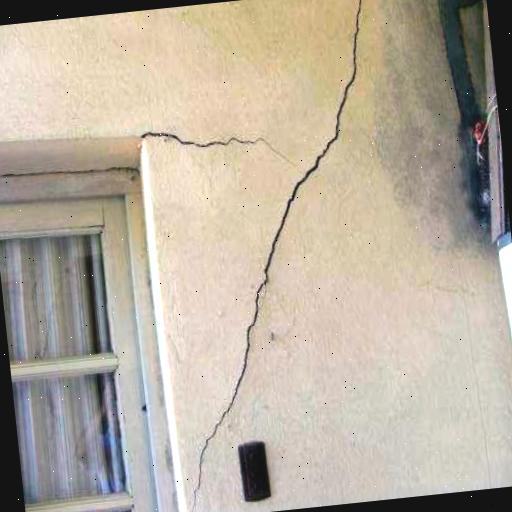spalling: (184, 0, 368, 494), (140, 127, 292, 167)
